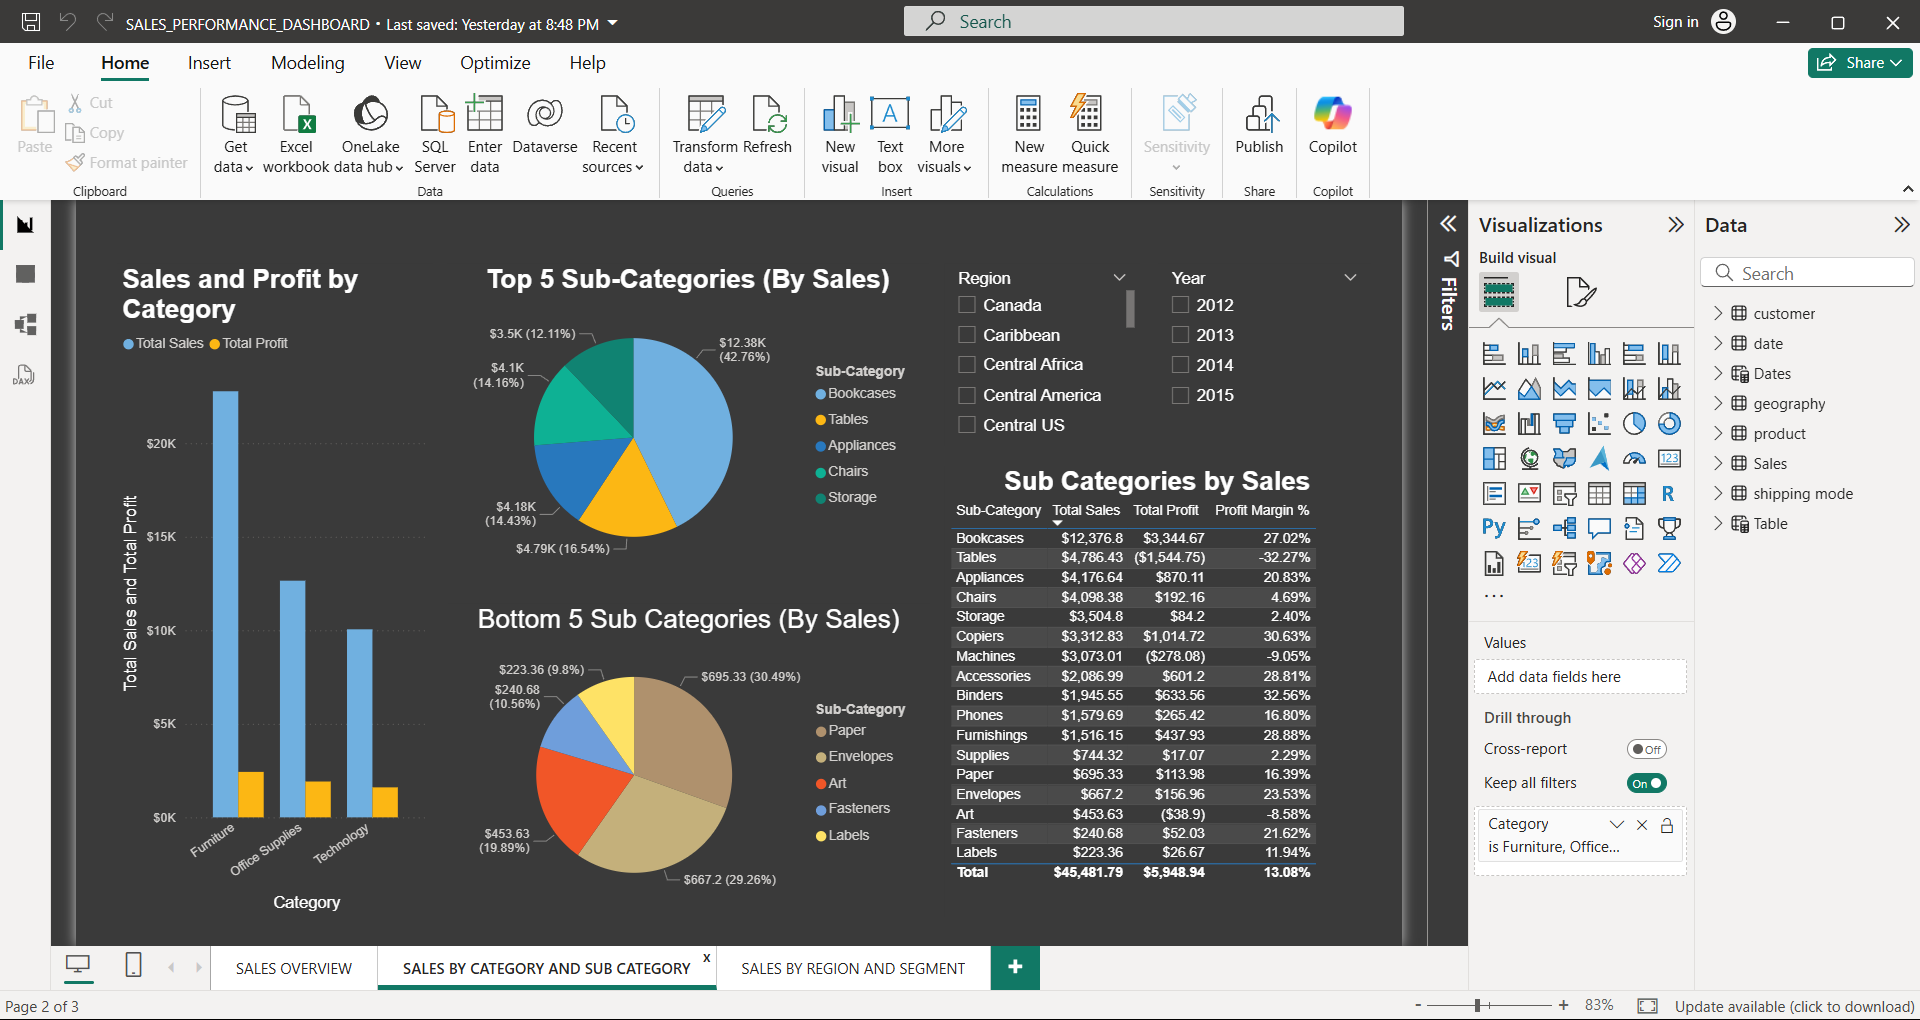

This screenshot's page, from the dashboard's own definition file:
{"tool":"powerbi","page":{"name":"SALES BY CATEGORY AND SUB CATEGORY","canvas":[1280,720],"ordinal":1},"visuals":[{"type":"clusteredColumnChart","title":"Sales and Profit by Category","fields":{"Category":["Sales.Category"],"Y":["Table.Total Sales","Table.Total Profit"]},"box":[39.8,61.7,304.6,629.8],"z":0},{"type":"tableEx","title":"Sub Categories by Sales","fields":{"Values":["Sales.Sub-Category","Table.Total Sales","Table.Total Profit","Table.Profit Margin %"]},"box":[838.4,256.6,410.3,435],"z":2000},{"type":"pieChart","title":"Top 5 Sub-Categories (By Sales)","fields":{"Category":["Sales.Sub-Category"],"Y":["Table.Total Sales"]},"box":[358.3,61.1,464.7,306.9],"z":3000},{"type":"pieChart","title":"Bottom 5 Sub Categories (By Sales)","fields":{"Category":["Sales.Sub-Category"],"Y":["Table.Total Sales"]},"box":[359.5,389.7,463.8,301.9],"z":4000},{"type":"slicer","fields":{"Values":["Sales.Region"]},"box":[838.4,61.7,188,175.6],"z":5000},{"type":"slicer","fields":{"Values":["date.Year"]},"box":[1044.3,61.7,204.5,175.6],"z":6000}]}

Visuals, with their boxes on the page's 1280x720 design canvas (x1, y1, x2, y2). These are canvas units, not pixel positions in the 1920x1020 screenshot, which may show the page scaled, cropped or inside an application window:
"Sales and Profit by Category" clusteredColumnChart: bbox=[40, 62, 344, 692]
"Sub Categories by Sales" tableEx: bbox=[838, 257, 1249, 692]
"Top 5 Sub-Categories (By Sales)" pieChart: bbox=[358, 61, 823, 368]
"Bottom 5 Sub Categories (By Sales)" pieChart: bbox=[360, 390, 823, 692]
slicer - Sales.Region: bbox=[838, 62, 1026, 237]
slicer - date.Year: bbox=[1044, 62, 1249, 237]
